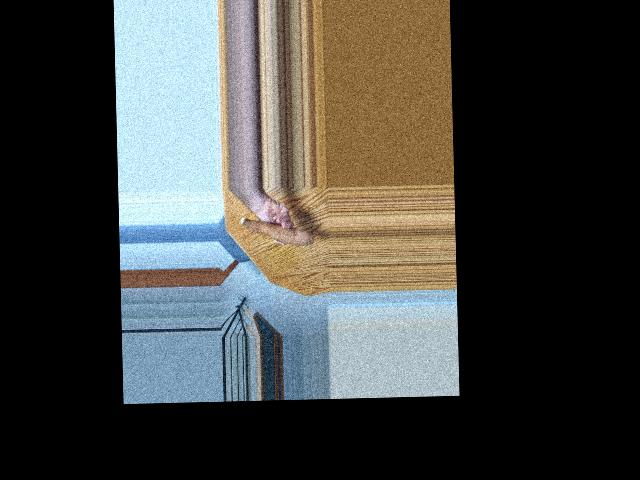sweet_potato: (240, 208, 311, 250)
